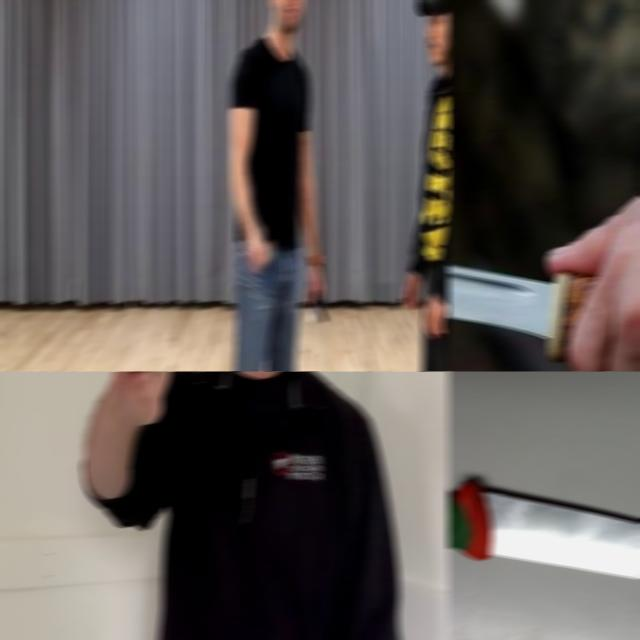Knife: (446, 479, 640, 578), (446, 264, 596, 362)
Knife_Handle: (446, 191, 640, 371), (50, 371, 182, 426), (306, 251, 328, 322)
